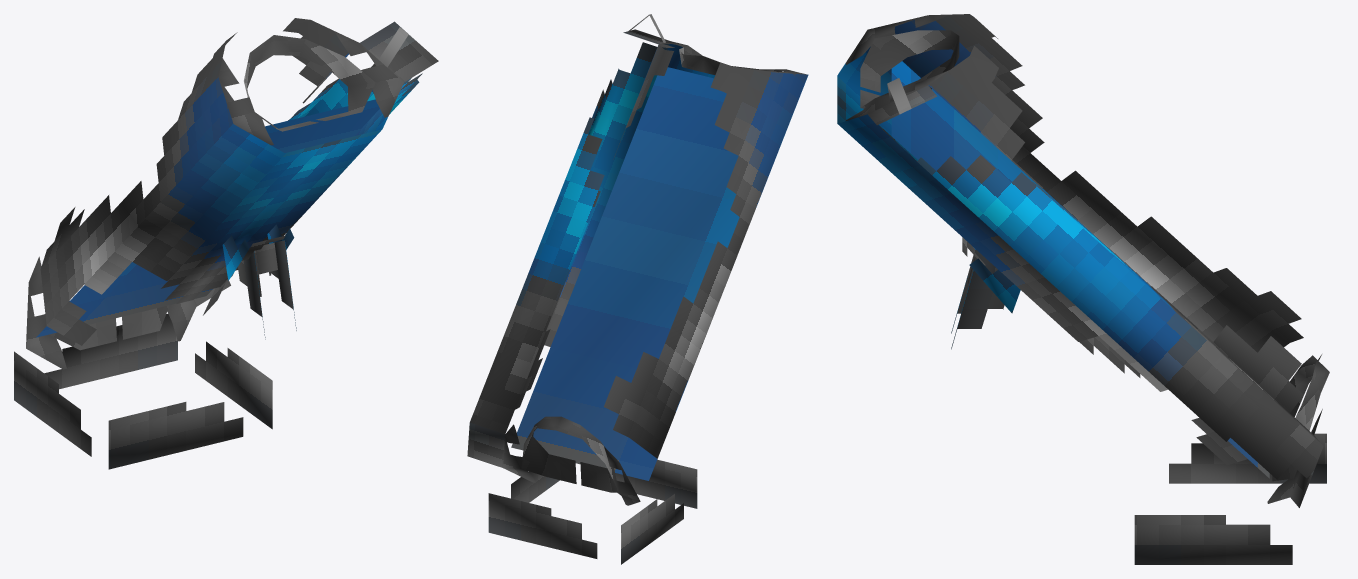
File: dev_advanced.obj
The picture shows the model from 3 angles, left to right: view 1: azimuth 30°, elevation 25°; view 2: azimuth 150°, elevation 25°; view 3: azimuth 270°, elevation 25°; orthographic projection. The views are drawn at different scales.
Visible parts, largest first — view 1: dev_advanced; view 2: dev_advanced; view 3: dev_advanced.
Boxes of the visible parts, x1,y1,x2,y2 form: dev_advanced: (14,18,438,469); dev_advanced: (467,14,808,564); dev_advanced: (837,14,1329,564).
Size of the model in its own units: 1.28 by 2.86 by 2.63.
